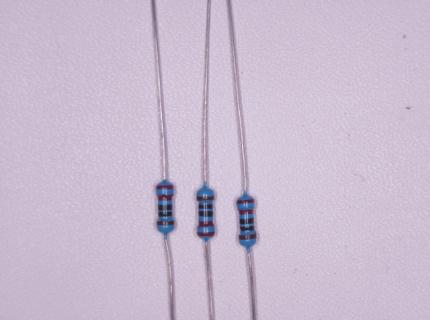Black band: (158, 205, 173, 211), (240, 218, 254, 224), (199, 211, 213, 217), (158, 211, 172, 217), (240, 226, 254, 231), (199, 205, 213, 209)
Brown band: (239, 234, 257, 241), (197, 196, 214, 201), (157, 221, 174, 225)
Red band: (199, 221, 214, 227), (237, 199, 254, 204), (158, 195, 172, 201), (239, 209, 253, 215), (156, 185, 173, 189), (198, 232, 215, 236)
